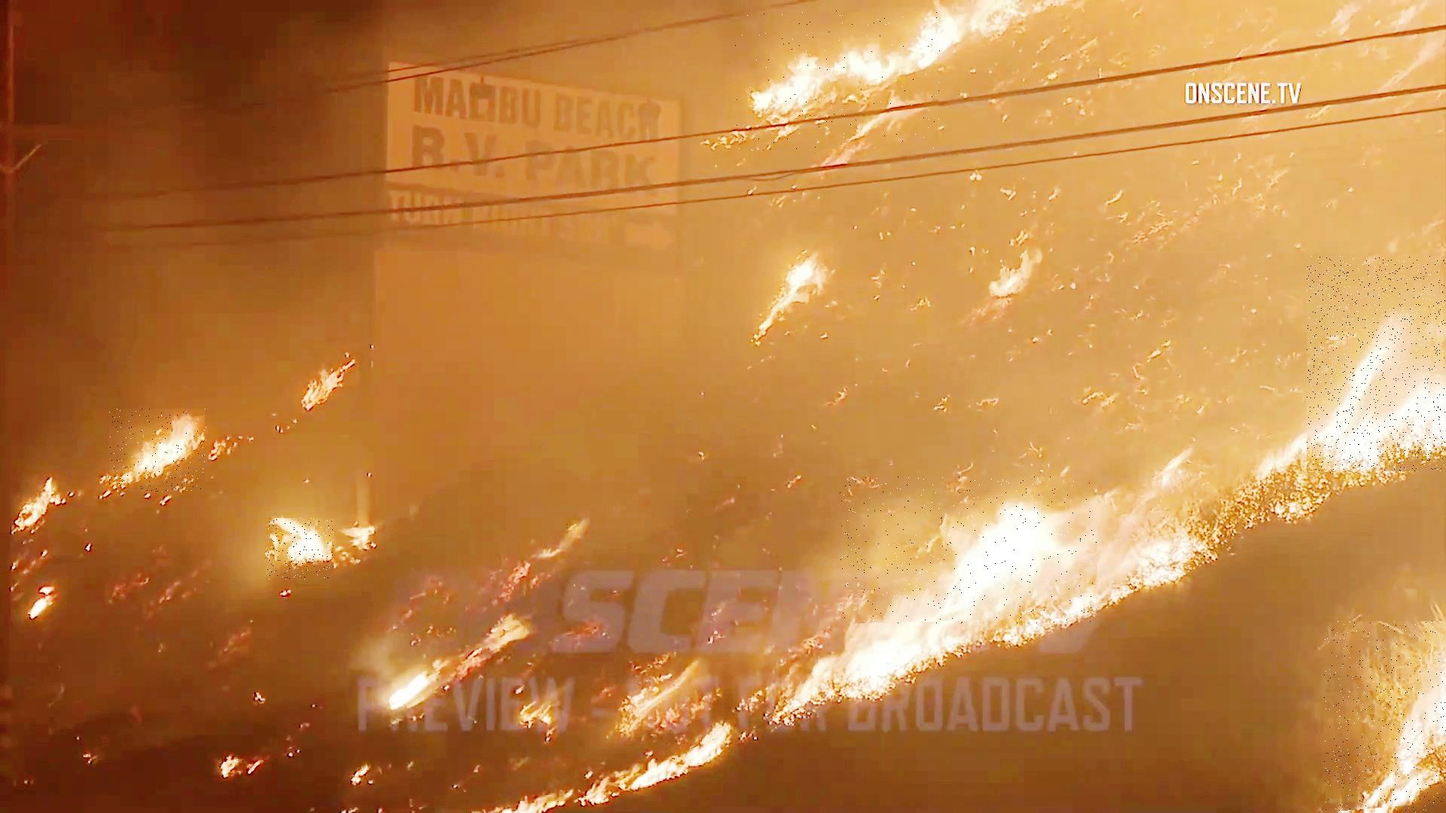fire: (840, 477, 1097, 623), (1307, 256, 1446, 473), (733, 8, 941, 150), (1324, 622, 1446, 813), (110, 409, 207, 493), (266, 518, 334, 580)
